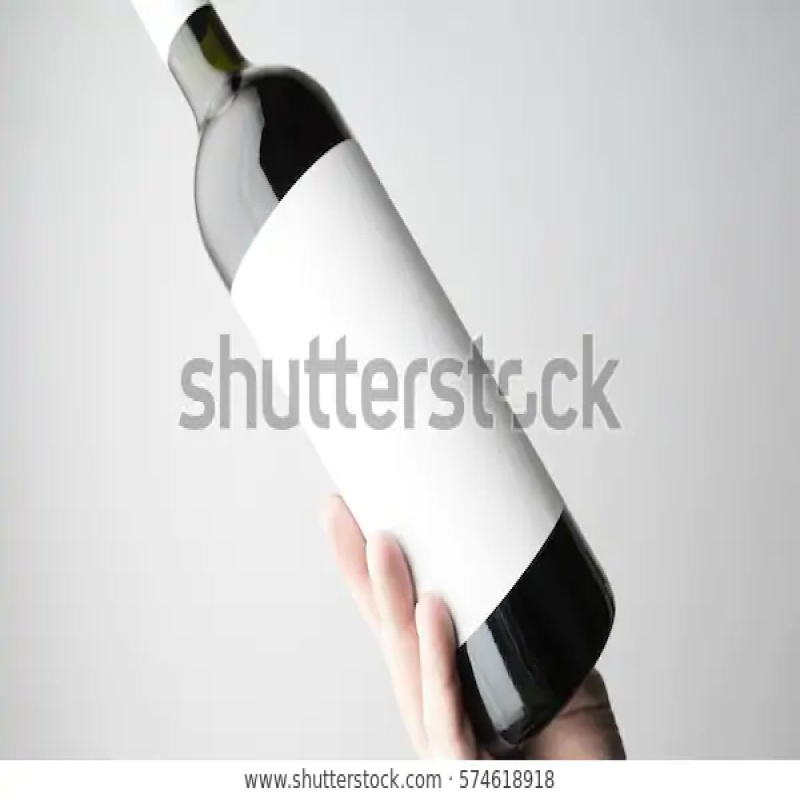wine: (133, 1, 620, 748)
